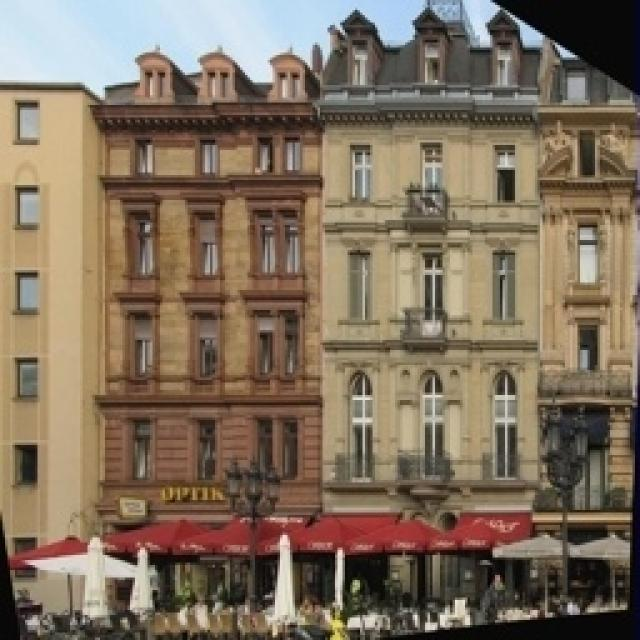building: (333, 5, 555, 640), (88, 42, 320, 640)
